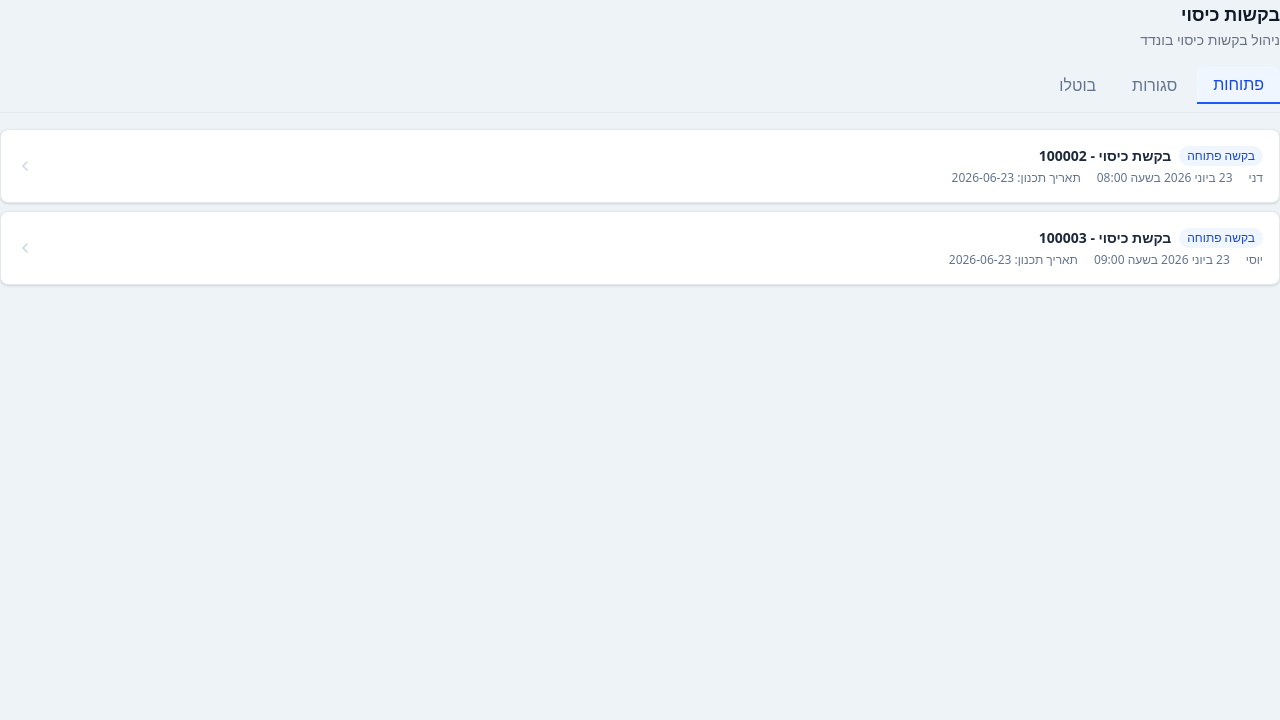
Scenario: BondedRequestsList › opens detail drawer when clicking a request card
Click the text "בקשת כיסוי - 100002" at (1105, 156), box [1039,146,1171,166]
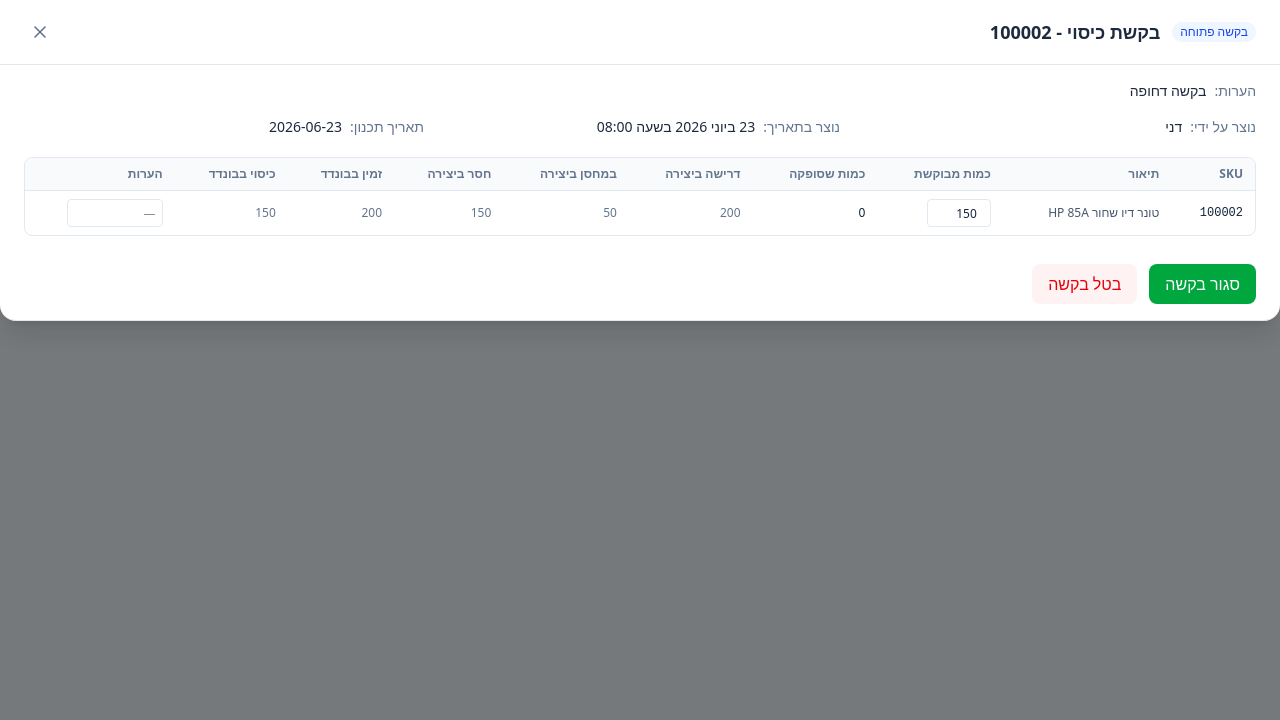
Check: the text "טונר דיו שחור HP 85A" is shown, box [1003,190,1171,235]
